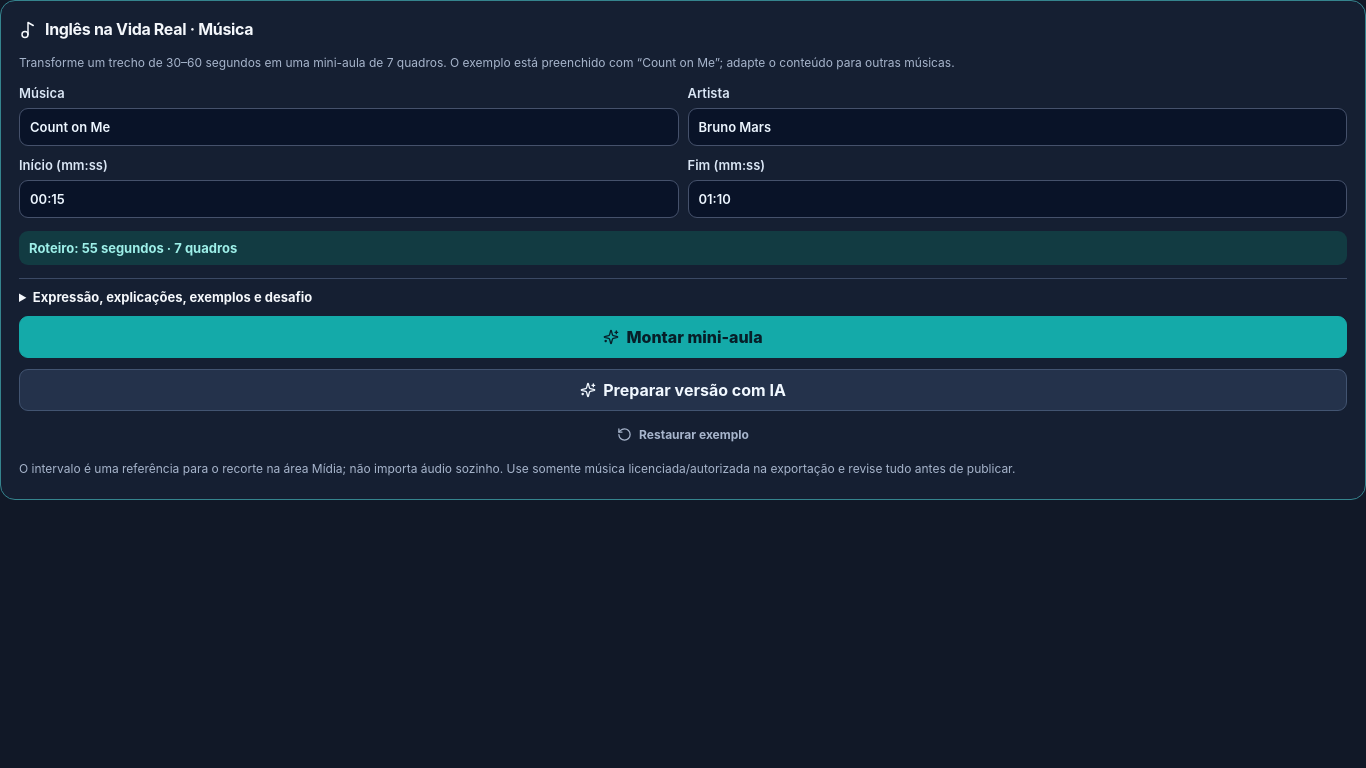
Test: MusicLessonComposer › blocks an invalid cut and leaves the last proposal untouched
In the field named "Fim do trecho musical": (1017, 199) top-left (688, 180), bottom-right (1347, 218), type "00:20"
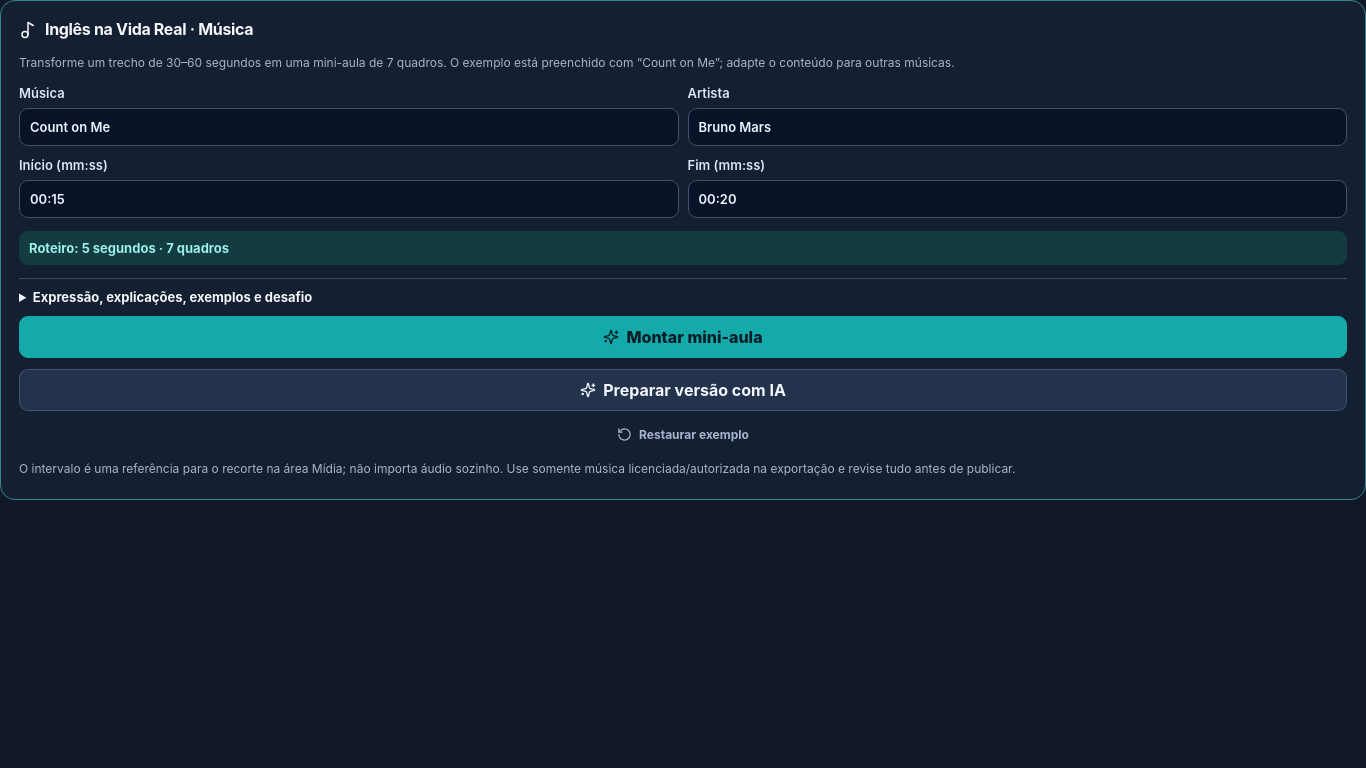
Click the button "Montar mini-aula": (683, 337) top-left (19, 316), bottom-right (1347, 358)
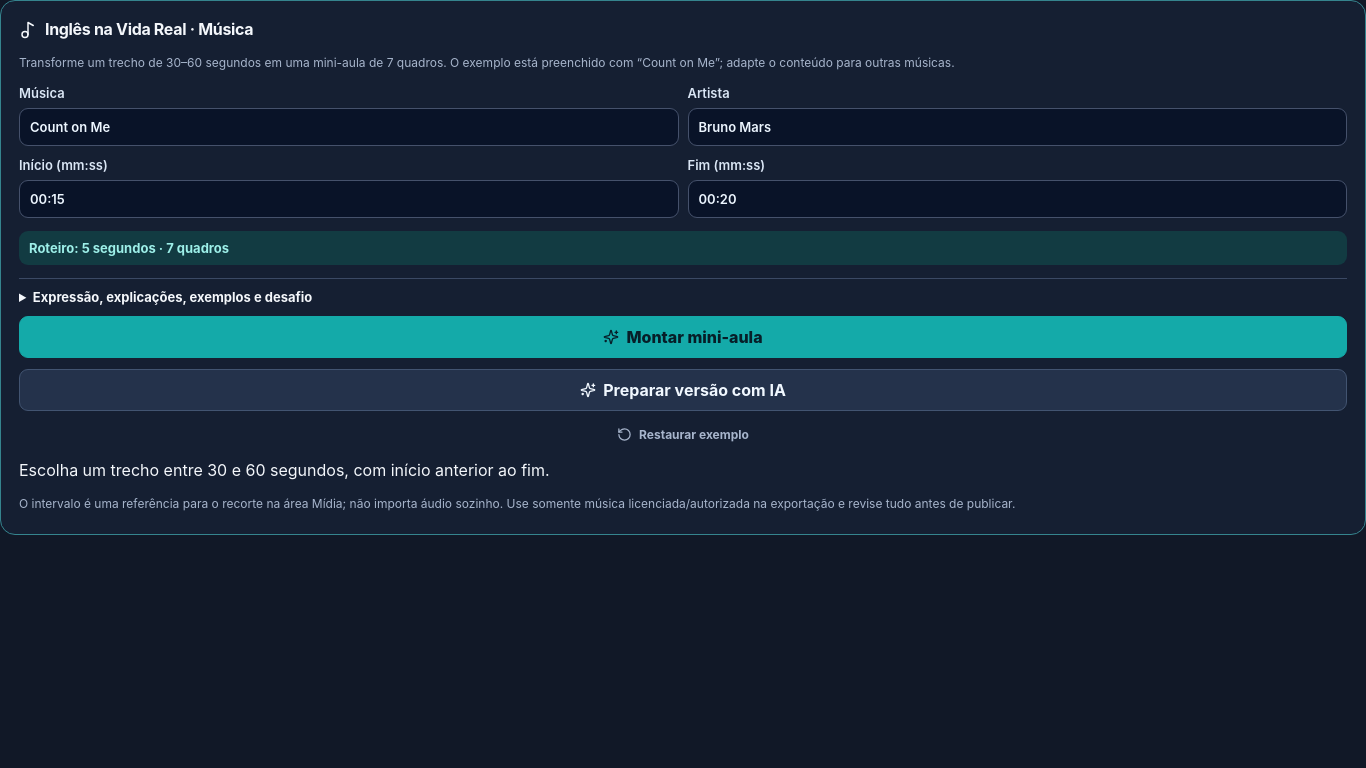
Result: the message "Escolha um trecho entre 30 e 60 segundos, com início anterior ao fim." is shown at top-left (19, 460), bottom-right (550, 480)
